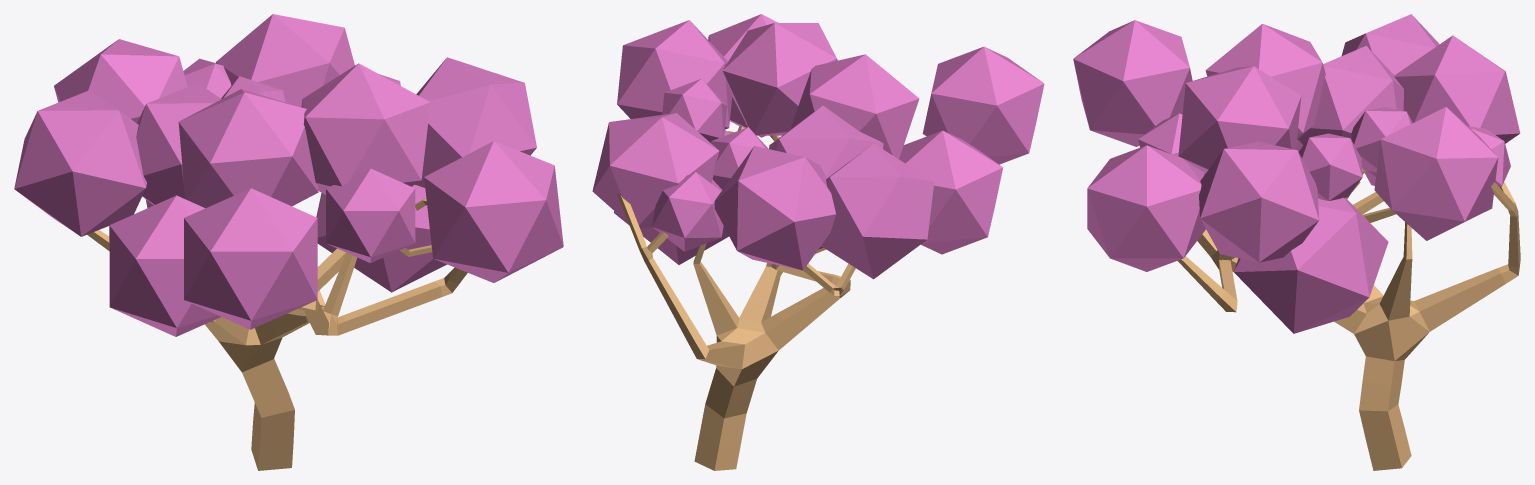
Rendered from Tree.fbx.
3 views of the same model, side by side, from view 1: azimuth 30°, elevation 25°; view 2: azimuth 150°, elevation 25°; view 3: azimuth 270°, elevation 25° (orthographic). The views are drawn at different scales.
Parts seen in each view (by area): view 1: Icosphere.007, Cube; view 2: Icosphere.007, Cube; view 3: Icosphere.007, Cube.
Boxes of the visible parts, left/top/right/bottom form: Icosphere.007: left=14, top=14, right=563, bottom=336; Cube: left=87, top=197, right=467, bottom=470; Icosphere.007: left=592, top=14, right=1044, bottom=279; Cube: left=617, top=126, right=855, bottom=470; Icosphere.007: left=1073, top=14, right=1520, bottom=333; Cube: left=1177, top=140, right=1520, bottom=470.
Bounding box in the file's own units: 633 × 638 × 639.
